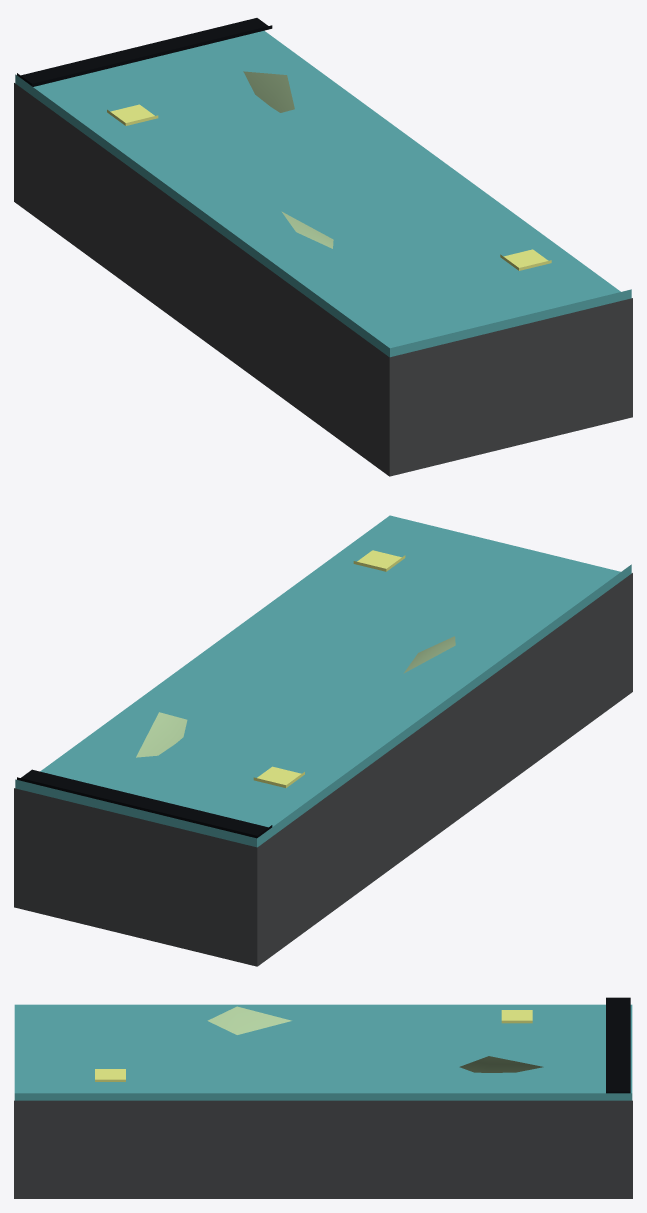
Rendered from tt_climb_mat_300_06x16.glb.
3 views of the same model, one above another, from view 1: azimuth 30°, elevation 25°; view 2: azimuth 150°, elevation 25°; view 3: azimuth 270°, elevation 25° (orthographic). The views are drawn at different scales.
Parts seen in each view (by area): view 1: Mat_Cover, Mat_Core, Velcro_Seam_Flap, Leaf_Print, Ball_Dots; view 2: Mat_Cover, Mat_Core, Velcro_Seam_Flap, Leaf_Print, Ball_Dots; view 3: Mat_Core, Mat_Cover, Velcro_Seam_Flap, Leaf_Print, Ball_Dots.
Part boxes in pixels (bbox=[...]): Mat_Cover: bbox=[15, 30, 631, 357]; Mat_Core: bbox=[14, 83, 632, 476]; Velcro_Seam_Flap: bbox=[17, 18, 272, 86]; Leaf_Print: bbox=[243, 71, 333, 248]; Ball_Dots: bbox=[107, 104, 551, 270]; Mat_Cover: bbox=[15, 515, 631, 847]; Mat_Core: bbox=[14, 573, 632, 966]; Velcro_Seam_Flap: bbox=[17, 769, 272, 838]; Leaf_Print: bbox=[136, 636, 455, 757]; Ball_Dots: bbox=[253, 550, 405, 787]; Mat_Core: bbox=[14, 1100, 632, 1198]; Mat_Cover: bbox=[14, 1004, 632, 1100]; Velcro_Seam_Flap: bbox=[606, 997, 630, 1093]; Leaf_Print: bbox=[207, 1006, 543, 1072]; Ball_Dots: bbox=[95, 1010, 532, 1081].
Size of what is drawn, in the model's own units: 0.598 by 0.3412 by 1.6.
5 materials, 1 textured.
